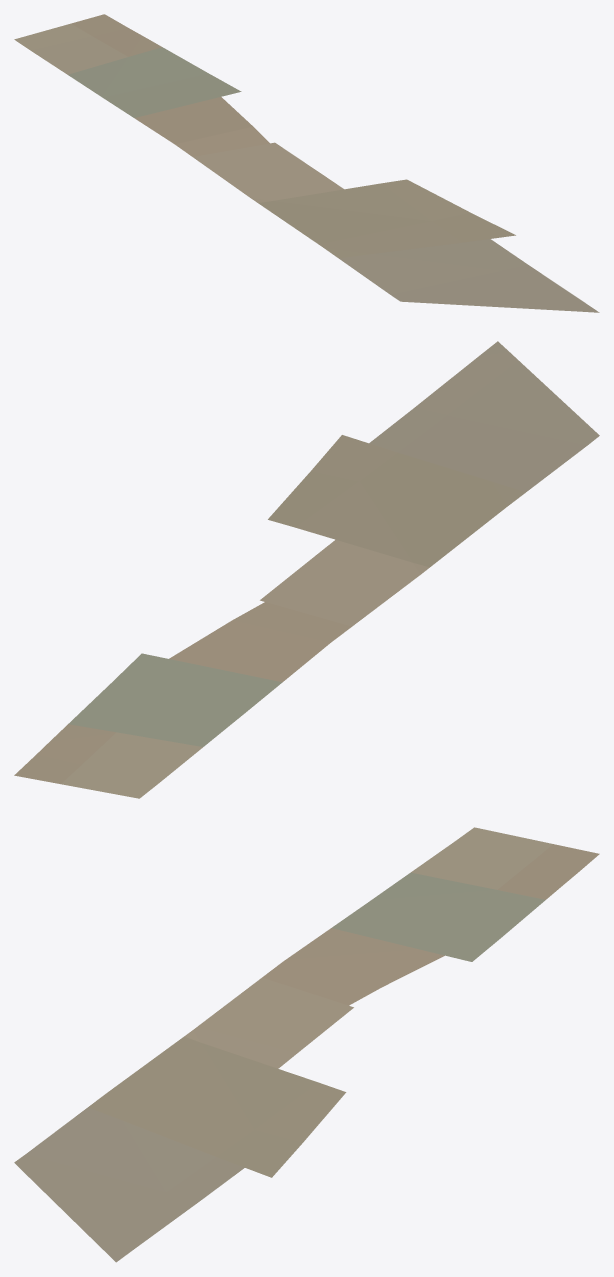
The model's file is farm_15_20_soil.glb.
3 views of the same model, one above another, from view 1: azimuth 30°, elevation 25°; view 2: azimuth 150°, elevation 25°; view 3: azimuth 330°, elevation 25° (orthographic). The views are drawn at different scales.
Visible parts, largest first — view 1: geometry_0; view 2: geometry_0; view 3: geometry_0.
Part boxes in pixels (x1,y1,x2,y2): geometry_0: (14, 14, 599, 312); geometry_0: (14, 341, 599, 798); geometry_0: (14, 827, 599, 1262).
Bounding box in the file's own units: 112 × 7.8 × 503.
